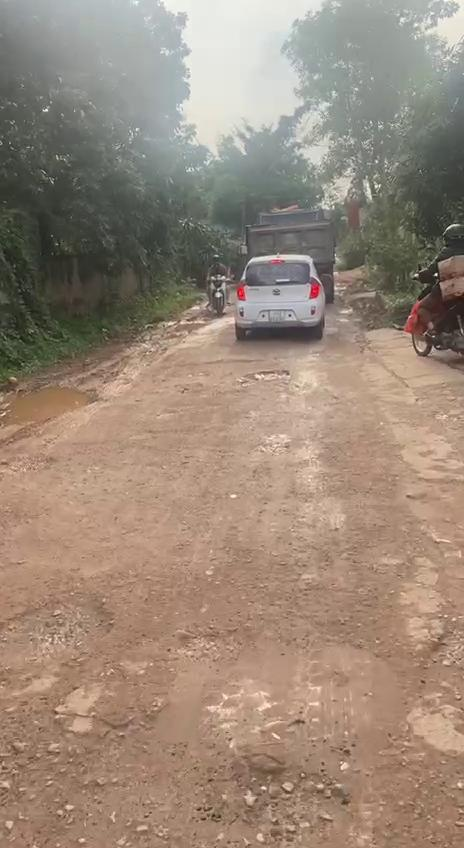pothole: (390, 472, 464, 801), (0, 588, 115, 672), (0, 382, 101, 432), (238, 369, 295, 386)
